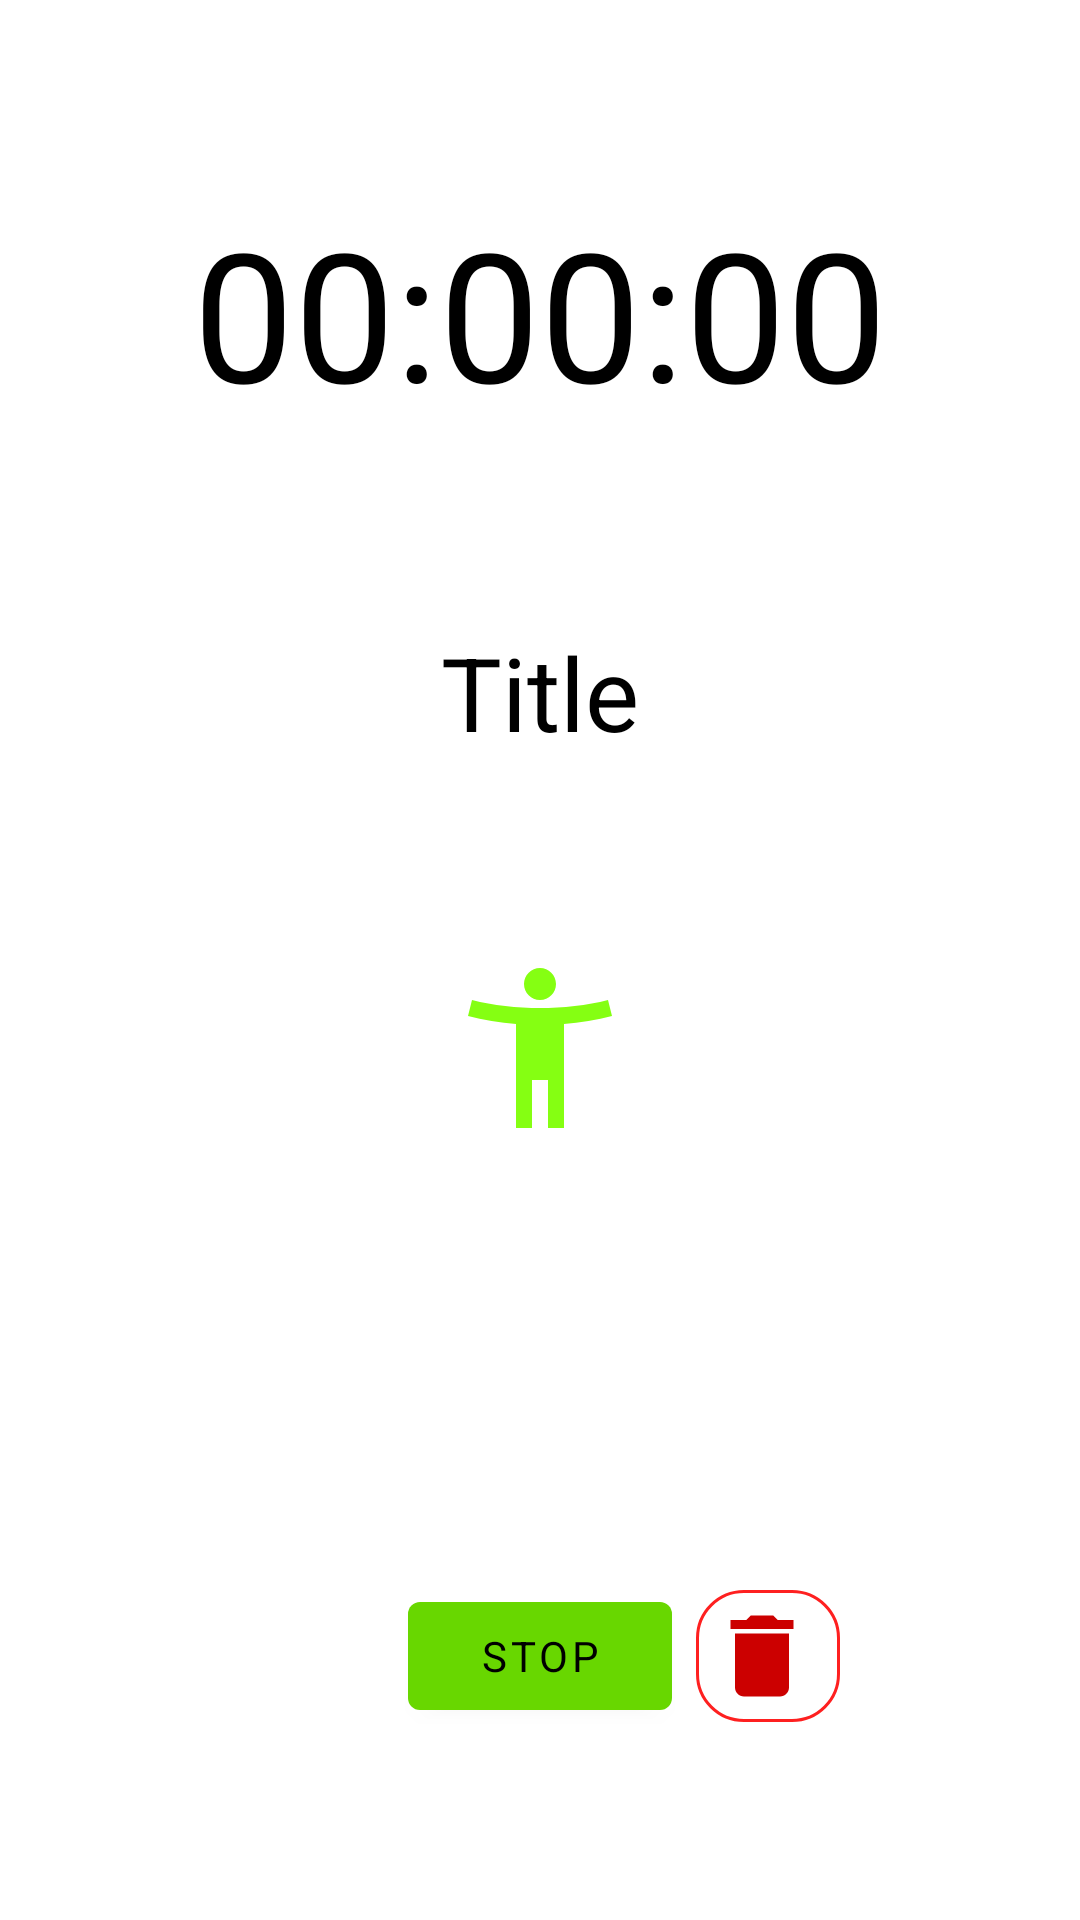

Icon bounding boxes for this 1080 × 1920 phone screenshot, format BBox(x1, y1, x2, y2):
activitytype generic: BBox(468, 968, 612, 1128)
delete: BBox(696, 1590, 840, 1722)
